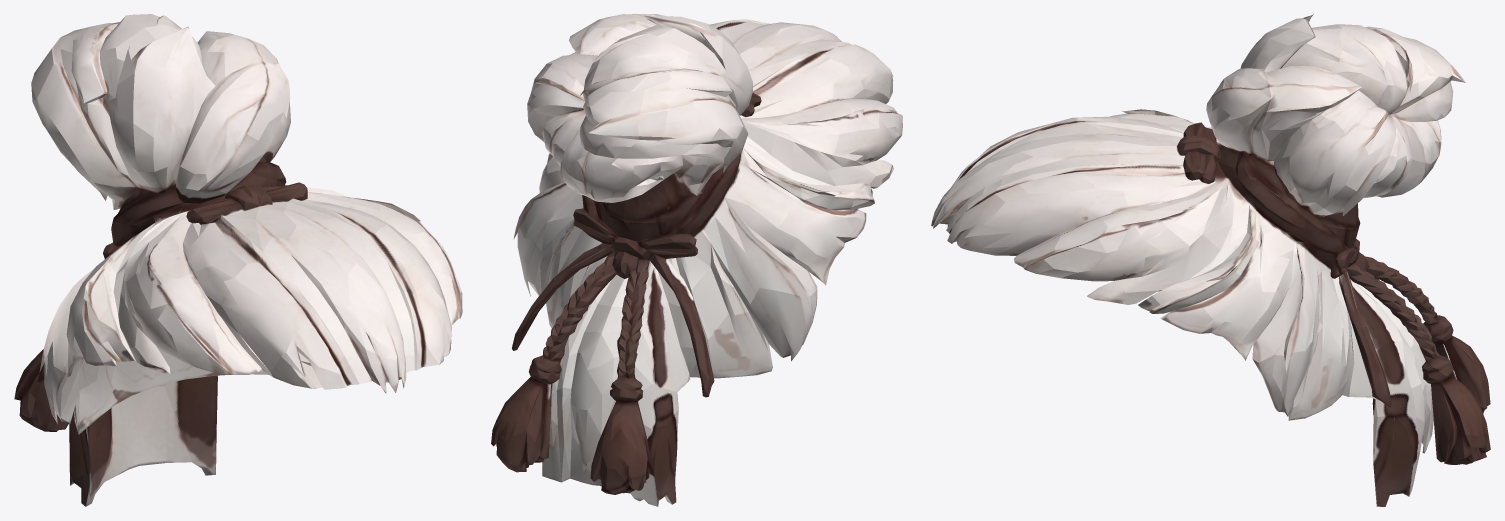
File: thalor_m-chignon-homme-haut.glb
3 views of the same model, side by side, from view 1: azimuth 30°, elevation 25°; view 2: azimuth 150°, elevation 25°; view 3: azimuth 270°, elevation 25° (orthographic). The views are drawn at different scales.
Parts seen in each view (by area): view 1: geometry_0; view 2: geometry_0; view 3: geometry_0.
Boxes of the visible parts, x1,y1,x2,y2 form: geometry_0: (14, 14, 462, 506); geometry_0: (491, 14, 902, 506); geometry_0: (931, 14, 1490, 506).
Bounding box in the file's own units: 1.15 × 1.63 × 1.87.
Materials: 1 (1 with a texture image).
